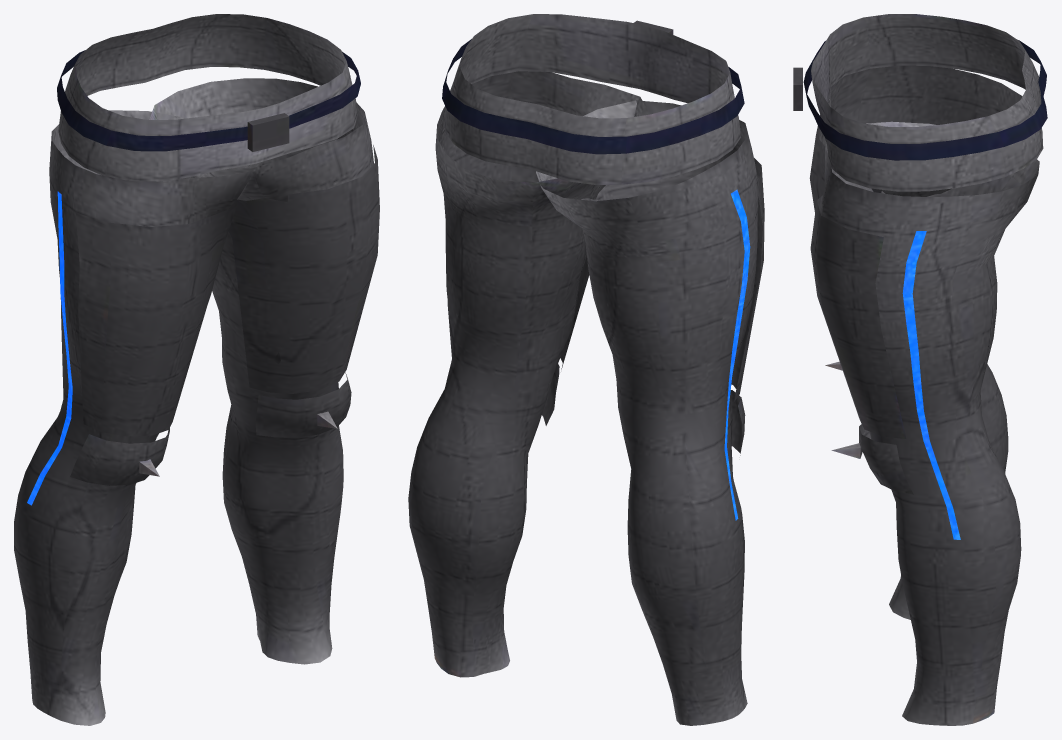
File: Calça_do_Guardião_nivel75.glb
The picture shows the model from 3 angles, left to right: view 1: azimuth 30°, elevation 25°; view 2: azimuth 150°, elevation 25°; view 3: azimuth 270°, elevation 25°; orthographic projection. The views are drawn at different scales.
Visible parts, largest first — view 1: calca_do_guardiao_nivel75; view 2: calca_do_guardiao_nivel75; view 3: calca_do_guardiao_nivel75.
Part boxes in pixels (x1,y1,x2,y2): calca_do_guardiao_nivel75: (14,14,379,725); calca_do_guardiao_nivel75: (408,14,764,725); calca_do_guardiao_nivel75: (793,14,1047,725).
Size of the model in its own units: 0.4438 by 0.8351 by 0.321.
1 material, 1 textured.
